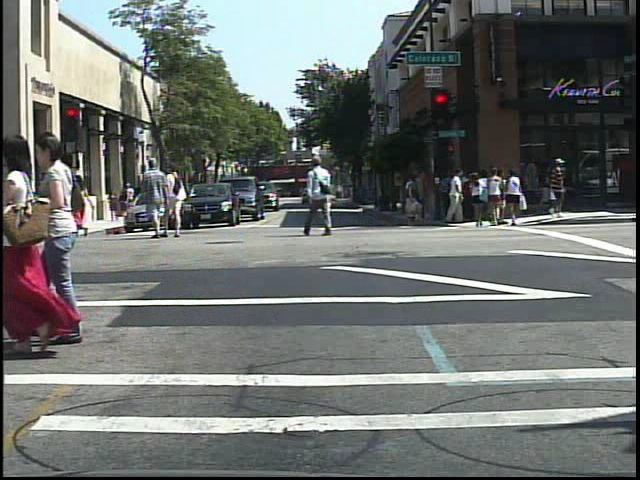person: (0, 129, 78, 364), (35, 122, 114, 348), (305, 152, 340, 242), (142, 155, 175, 242), (541, 154, 573, 219), (37, 167, 64, 244), (68, 168, 96, 242), (168, 160, 189, 240), (469, 171, 489, 231)
